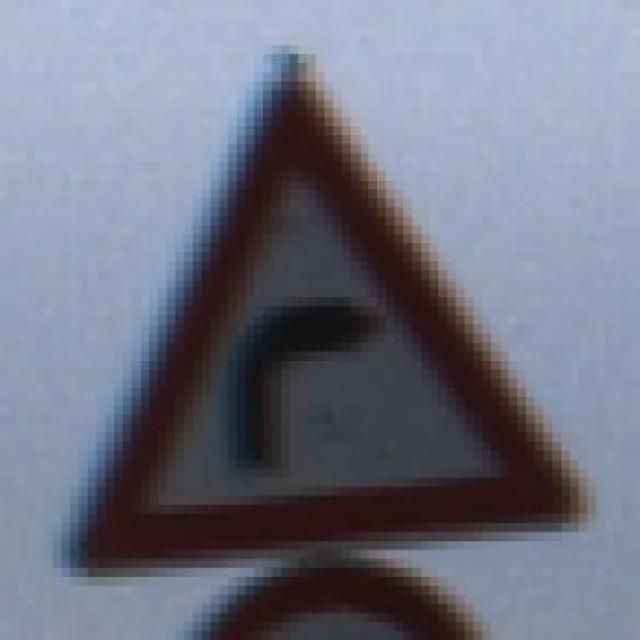Dangerous Rright Curve Ahead: (26, 45, 614, 586)
